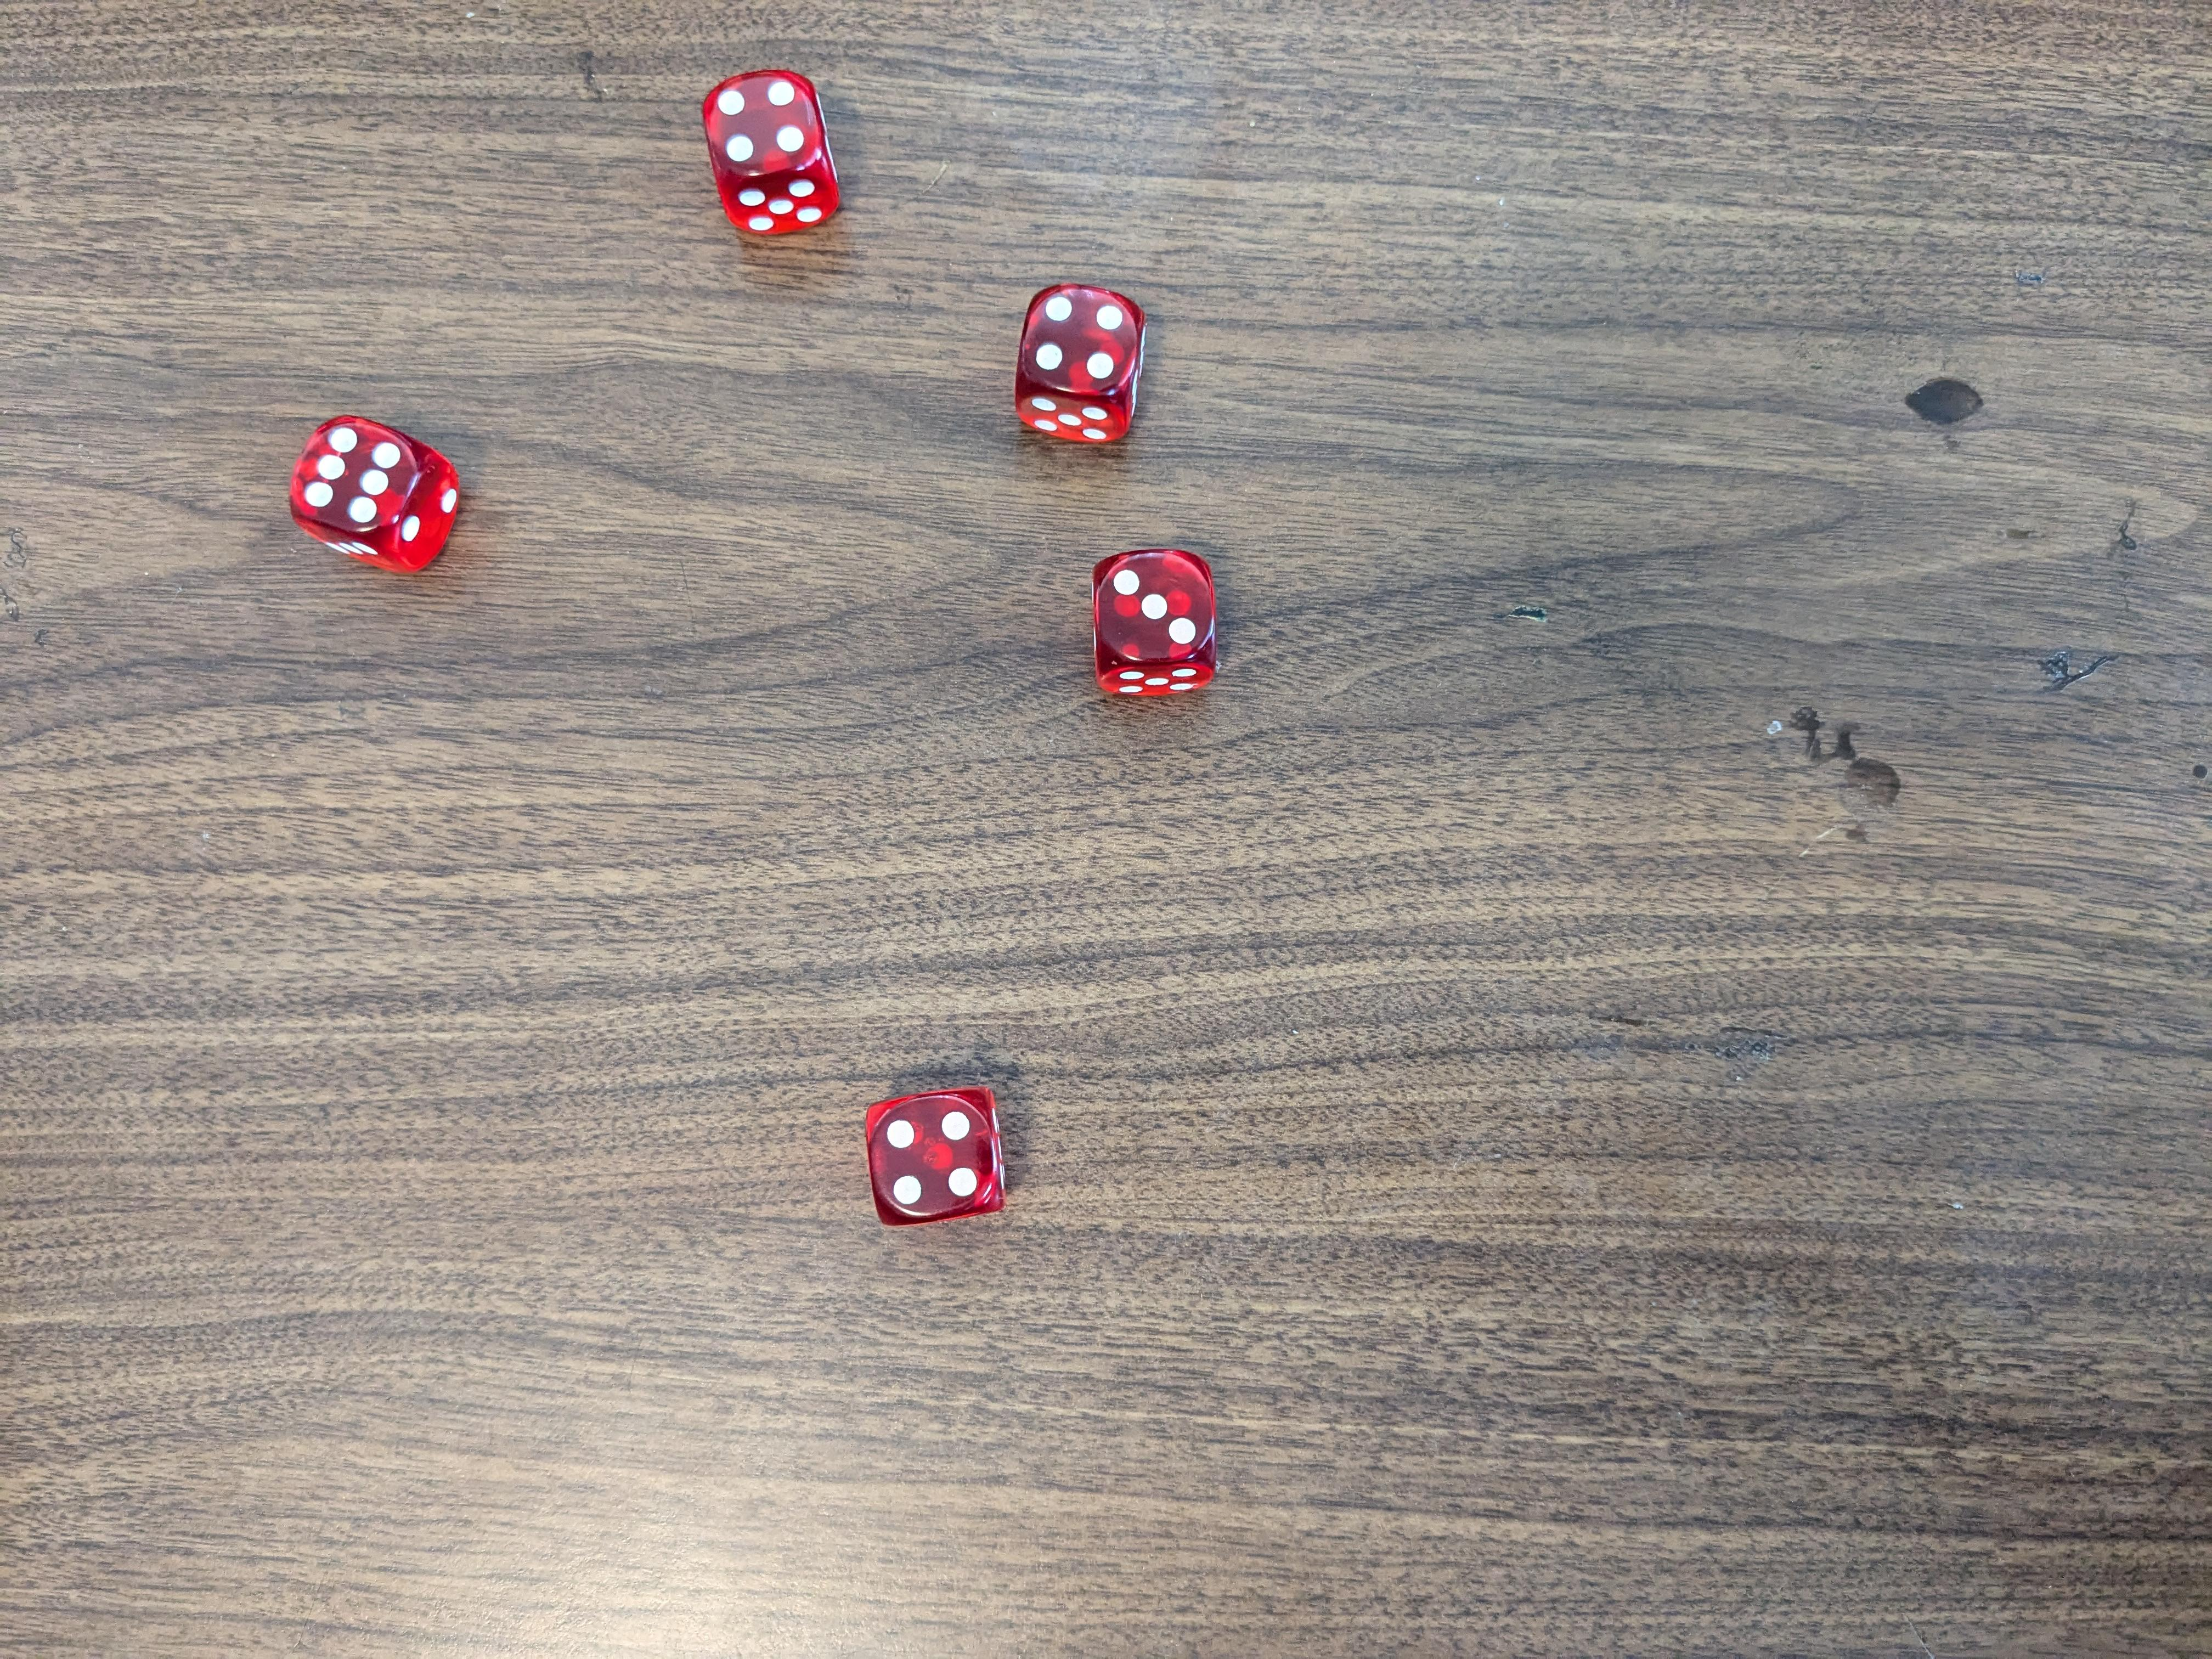four: (705, 68, 845, 234), (859, 1086, 1014, 1232), (1017, 282, 1141, 448)
six: (282, 415, 465, 573)
three: (1092, 549, 1216, 702)
